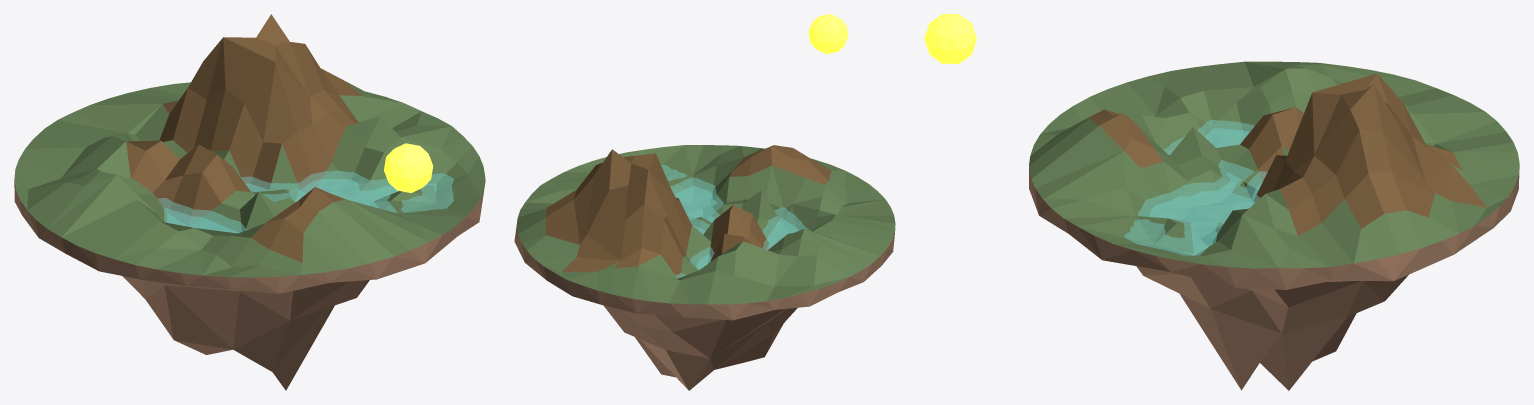
3 renders of one model, left to right at view 1: azimuth 30°, elevation 25°; view 2: azimuth 150°, elevation 25°; view 3: azimuth 270°, elevation 25°, orthographic. The views are drawn at different scales.
Visible parts, largest first — view 1: Island, Water, Sun; view 2: Island, Water, Sun; view 3: Island, Water, Sun.
Boxes of the visible parts, x1=… form: Island: x1=14, y1=14, x2=485, y2=390; Water: x1=158, y1=171, x2=453, y2=233; Sun: x1=384, y1=143, x2=433, y2=192; Island: x1=514, y1=145, x2=895, y2=390; Water: x1=661, y1=165, x2=808, y2=278; Sun: x1=808, y1=14, x2=848, y2=53; Island: x1=1029, y1=61, x2=1519, y2=390; Water: x1=1124, y1=120, x2=1267, y2=255; Sun: x1=924, y1=14, x2=976, y2=63.
Bounding box in the file's own units: 10.27 × 8.45 × 12.44.
